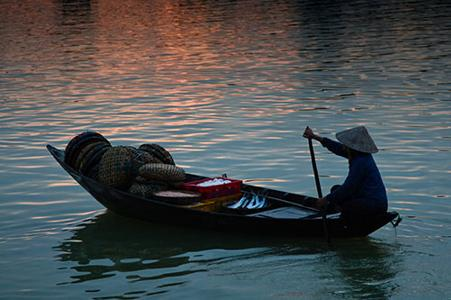person: (305, 125, 389, 218)
